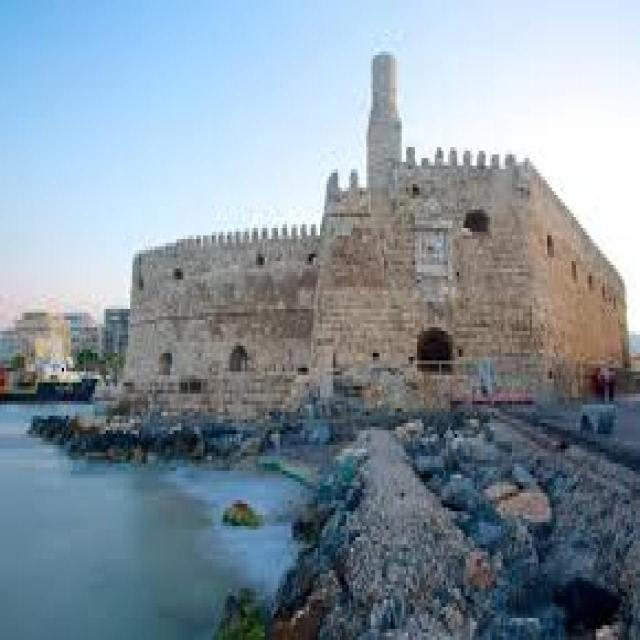Kules: (124, 44, 630, 403)
